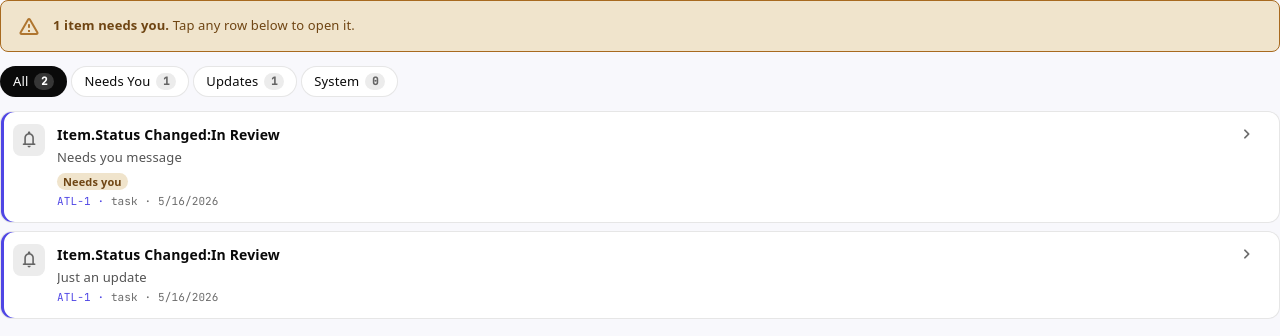
Test: InAppFeedTabContent › clicking "Needs You" filter pill covers setFilter("needs_you") (L115)
Step 1. Click the text "Needs You" → (117, 81), box [84,71,150,92]
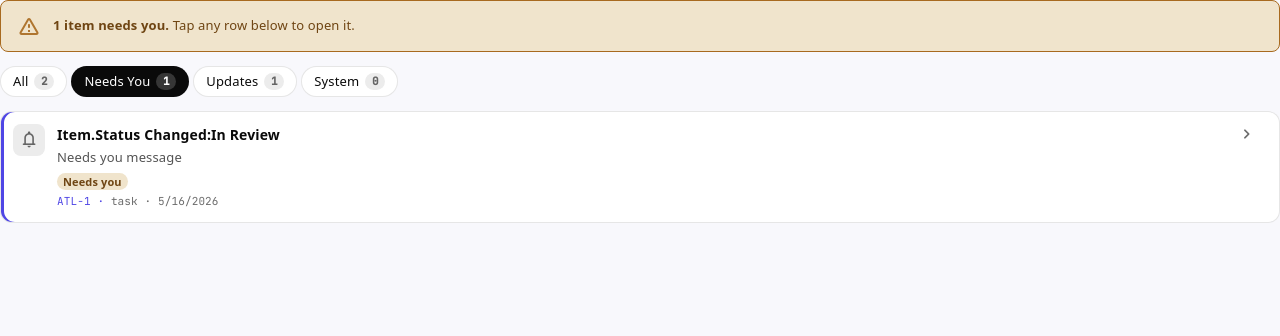
Expected: the text "Needs you message" is shown, [57,148,182,166]
Now the button "Just an update" is gone
